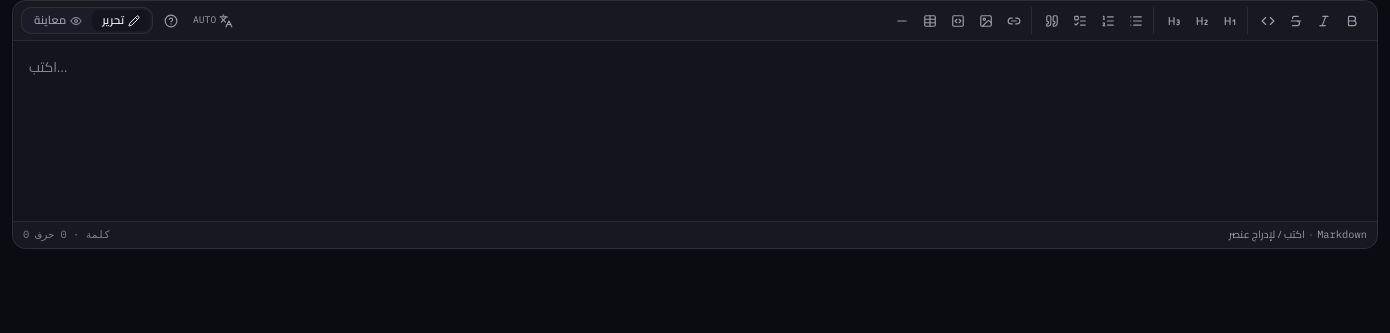
it: MarkdownEditor › shows the syntax cheatsheet on demand
The width and height of the screenshot is (1390, 333).
Click the button named "دليل التنسيق" at (171, 20), box [157,7,184,34]
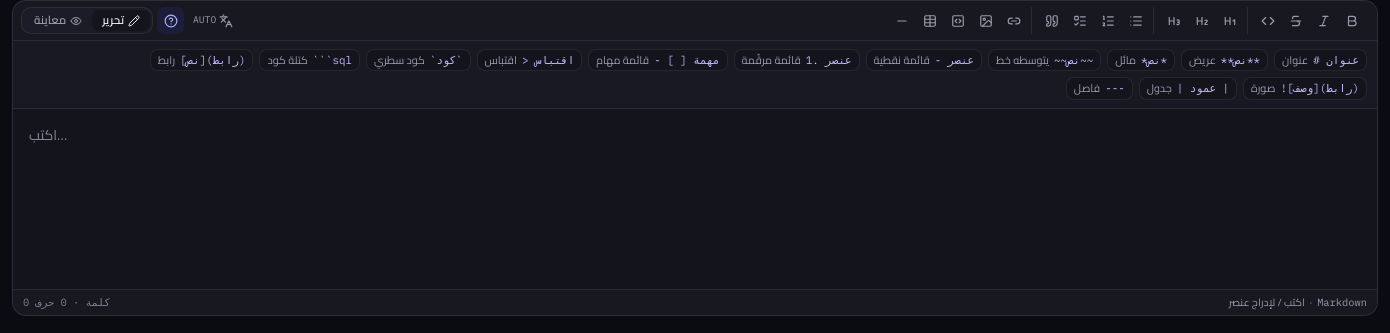
Expected: the text "- [ ] مهمة" is shown, [654,52,720,68]
